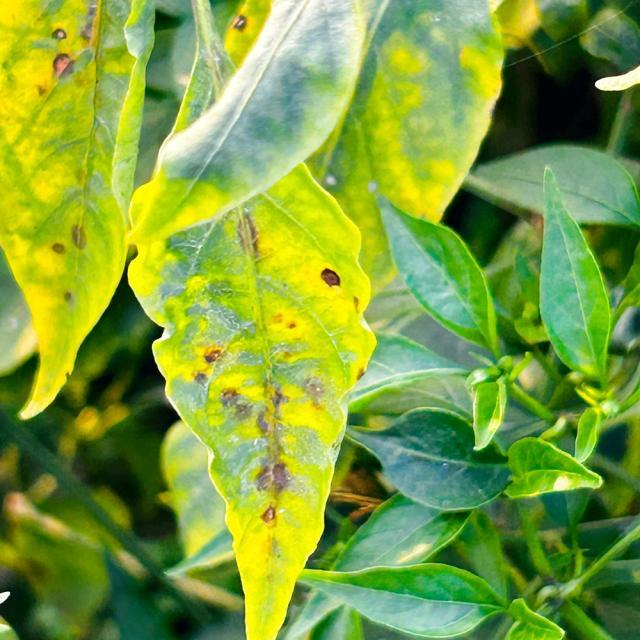Bercak Daun Serkospora: (126, 22, 378, 640), (0, 0, 138, 430)
